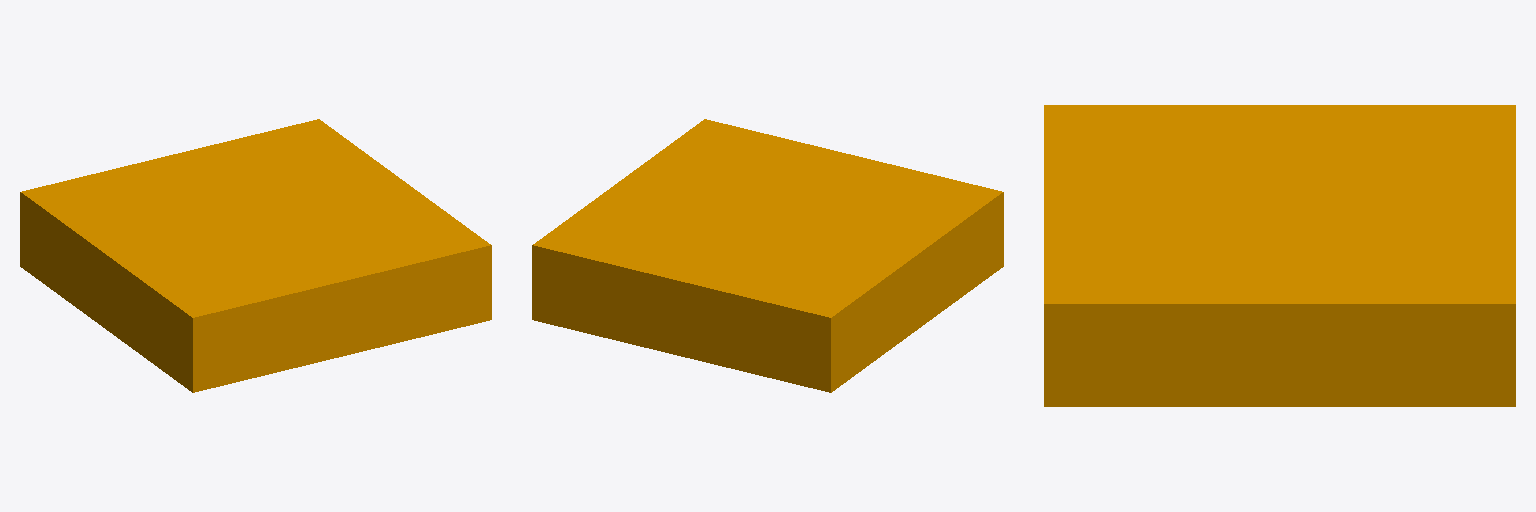
robot.urdf — lmf2:
<?xml version="1.0"?>
<!-- V5 LMF2 quad. Mass/inertia/collision copied from AerialGym
     resources/robots/lmf2/model.urdf. Visual geometry is simplified.
     Must stay consistent with envs/lmf2_params.py (checked by the tests). -->
<robot name="lmf2">
  <link name="base_link">
    <inertial>
      <origin xyz="0 0 0"/>
      <mass value="1.2"/>
      <inertia ixx="0.013" ixy="0" ixz="0" iyy="0.014" iyz="0" izz="0.013"/>
    </inertial>
    <visual><geometry><box size="0.25 0.25 0.06"/></geometry></visual>
    <collision><geometry><box size="0.5 0.5 0.5"/></geometry></collision>
  </link>
  <link name="prop_fl"><inertial><mass value="0.01"/><inertia ixx="1e-6" ixy="0" ixz="0" iyy="1e-6" iyz="0" izz="1e-6"/></inertial></link>
  <link name="prop_fr"><inertial><mass value="0.01"/><inertia ixx="1e-6" ixy="0" ixz="0" iyy="1e-6" iyz="0" izz="1e-6"/></inertial></link>
  <link name="prop_br"><inertial><mass value="0.01"/><inertia ixx="1e-6" ixy="0" ixz="0" iyy="1e-6" iyz="0" izz="1e-6"/></inertial></link>
  <link name="prop_bl"><inertial><mass value="0.01"/><inertia ixx="1e-6" ixy="0" ixz="0" iyy="1e-6" iyz="0" izz="1e-6"/></inertial></link>
  <joint name="j_fl" type="fixed"><parent link="base_link"/><child link="prop_fl"/><origin xyz="0.100 0.100 0"/></joint>
  <joint name="j_fr" type="fixed"><parent link="base_link"/><child link="prop_fr"/><origin xyz="0.100 -0.100 0"/></joint>
  <joint name="j_br" type="fixed"><parent link="base_link"/><child link="prop_br"/><origin xyz="-0.100 -0.100 0"/></joint>
  <joint name="j_bl" type="fixed"><parent link="base_link"/><child link="prop_bl"/><origin xyz="-0.100 0.100 0"/></joint>
</robot>

--- Render facts (derived) ---
The picture shows the robot from 3 angles, left to right: view 1: azimuth 30°, elevation 25°; view 2: azimuth 150°, elevation 25°; view 3: azimuth 270°, elevation 25°; orthographic projection.
Model lmf2 with 5 links and 4 joints (4 fixed), rooted at base_link, posed all joints at 0.
Visible links, largest first — view 1: base_link; view 2: base_link; view 3: base_link.
Boxes of the visible links, bbox=[...] form: base_link: bbox=[20, 119, 491, 392]; base_link: bbox=[532, 119, 1003, 392]; base_link: bbox=[1044, 105, 1515, 406].
Size in the robot's own frame: 0.25 by 0.25 by 0.06 metres.
Geometry: primitives only (box / cylinder / sphere), no mesh files.
